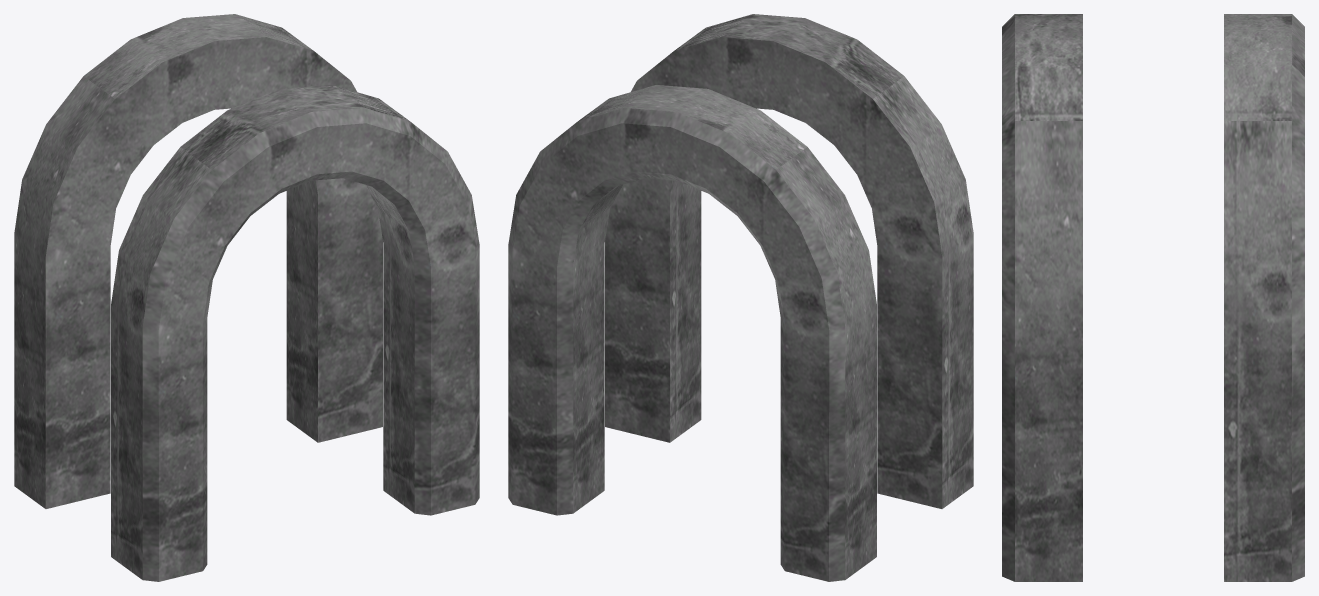
File: entry.glb
The picture shows the model from 3 angles, left to right: view 1: azimuth 30°, elevation 25°; view 2: azimuth 150°, elevation 25°; view 3: azimuth 270°, elevation 25°; orthographic projection. The views are drawn at different scales.
Parts seen in each view (by area): view 1: entry; view 2: entry; view 3: entry.
Part boxes in pixels (x1,y1,x2,y2): entry: (14,14,479,581); entry: (508,14,973,581); entry: (1002,14,1304,581).
Size of what is drawn, in the model's own units: 7.92 by 9.59 by 5.7.
Materials: 1 (1 with a texture image).
